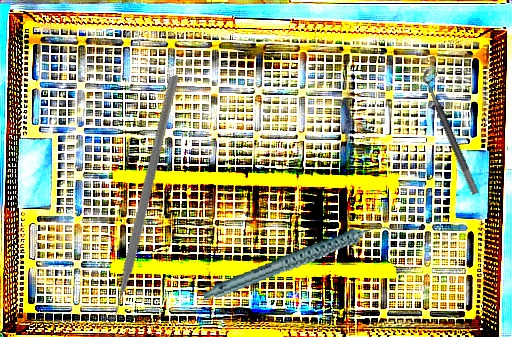Chopper: (26, 74, 245, 331)
Fixation Ring: (419, 65, 490, 196)
Handpiece: (197, 221, 397, 302)
